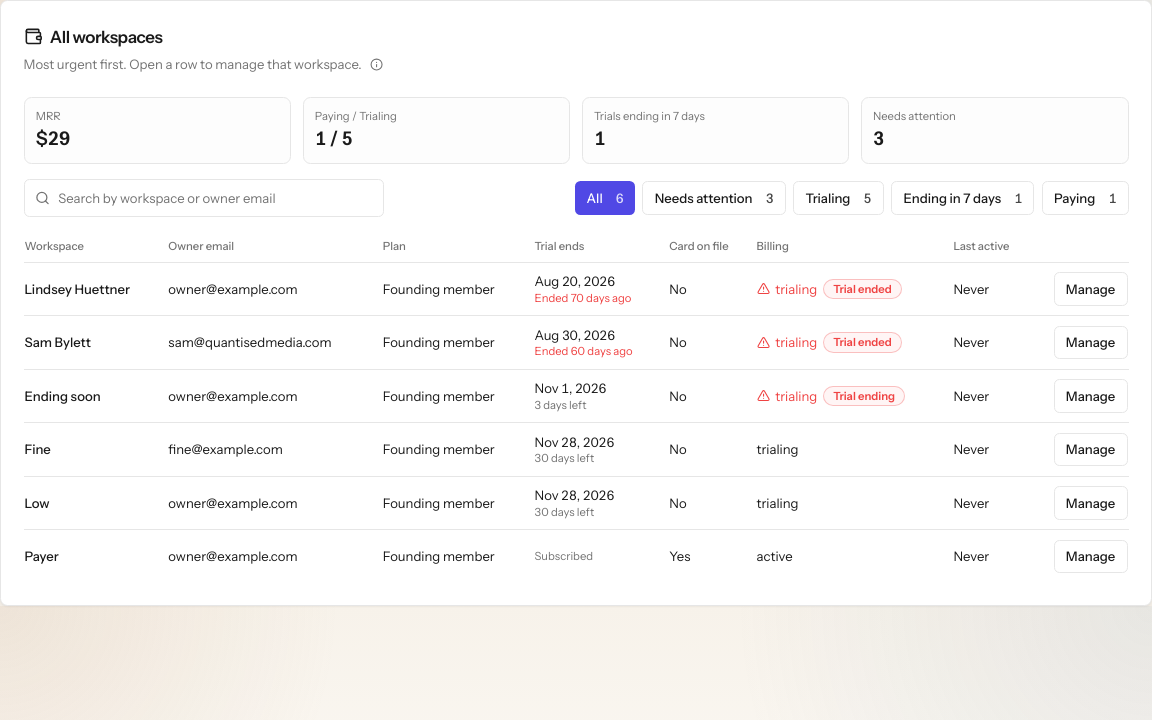
Test: BillingPortfolio › keeps the filter when searching straight after choosing it
The width and height of the screenshot is (1152, 720).
Click the button "Needs attention 3": (714, 198) [642, 181, 786, 215]
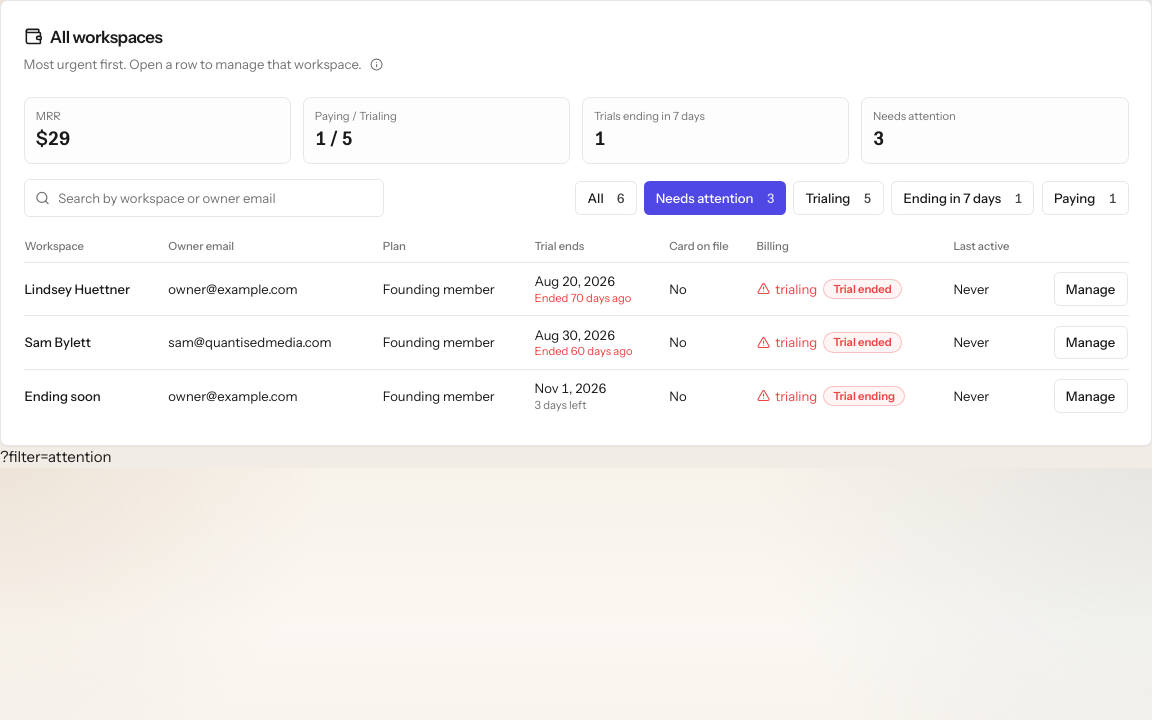
In the search field named "Search workspaces": (204, 198) [24, 179, 384, 217], type "sam"
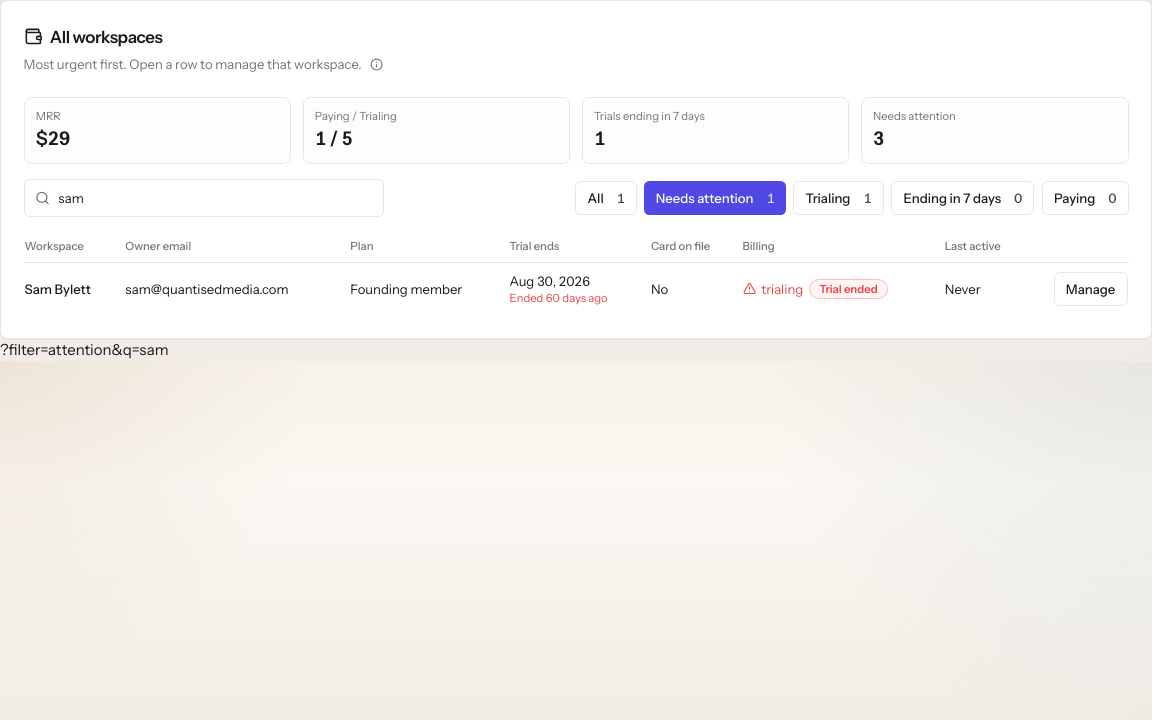
Result: the text with test id "location" shows "filter=attention&q=sam" at [0, 340, 168, 359]
